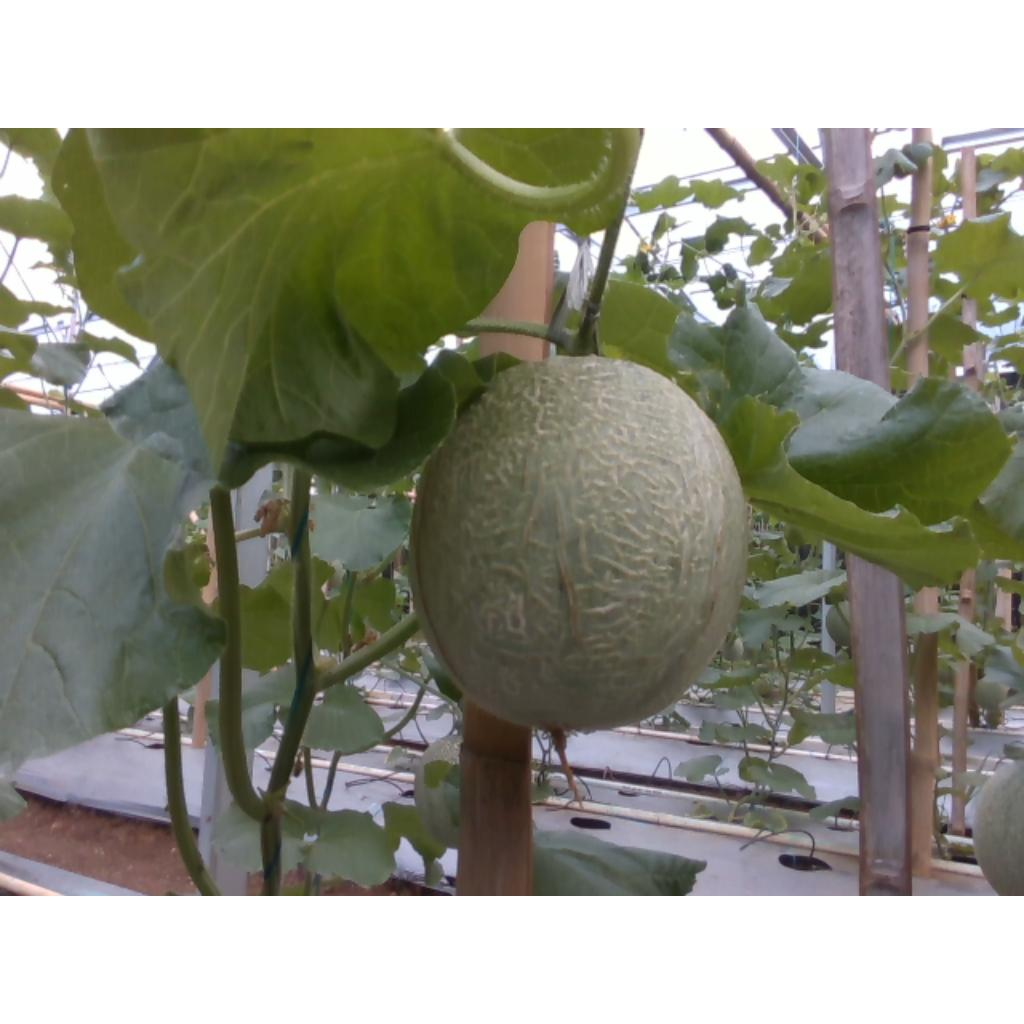melon: (413, 357, 749, 730)
